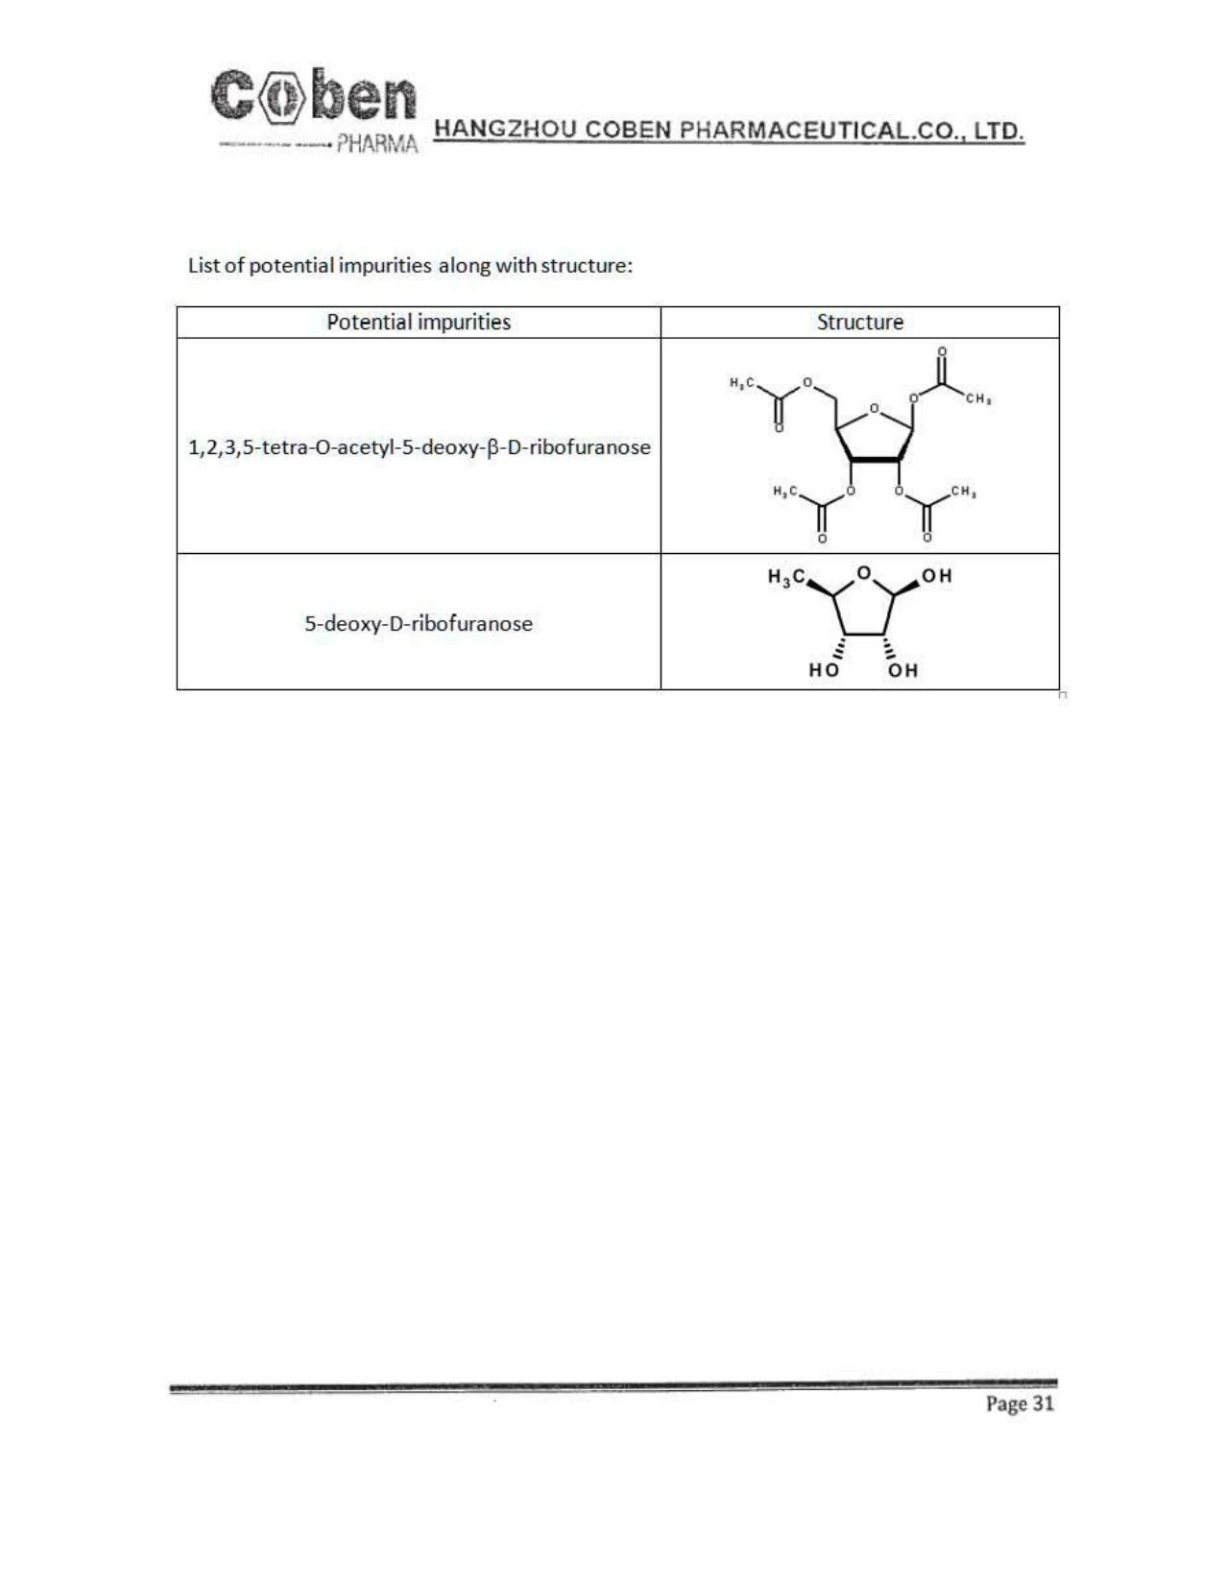full_lined: (174, 304, 1062, 692)
